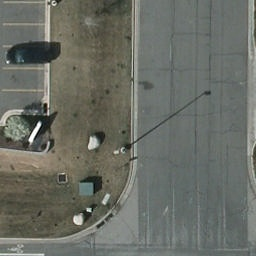car: (5, 48, 49, 65)
